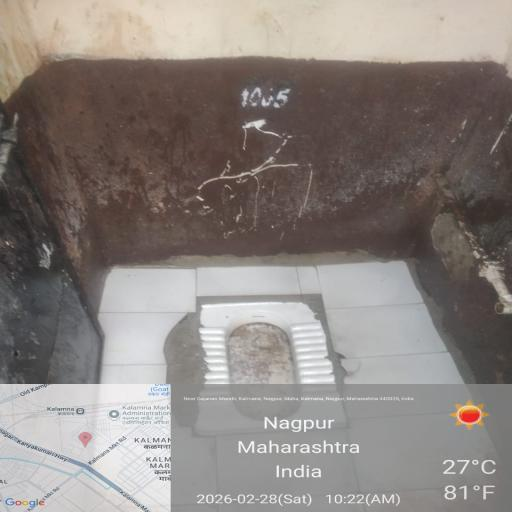partial_dirty_floor: (86, 257, 436, 389), (0, 0, 512, 82), (317, 97, 512, 263), (192, 106, 317, 250)
partial_dirty_indian: (198, 306, 336, 382)
